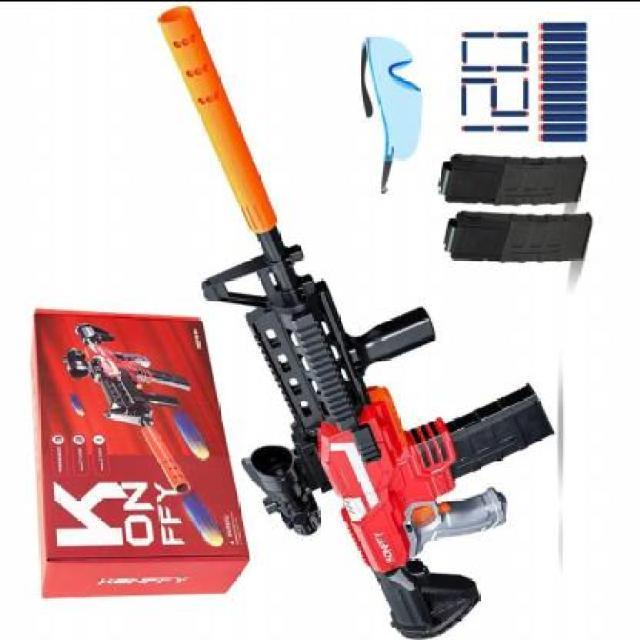weapon: (154, 5, 554, 639), (62, 322, 225, 548)
